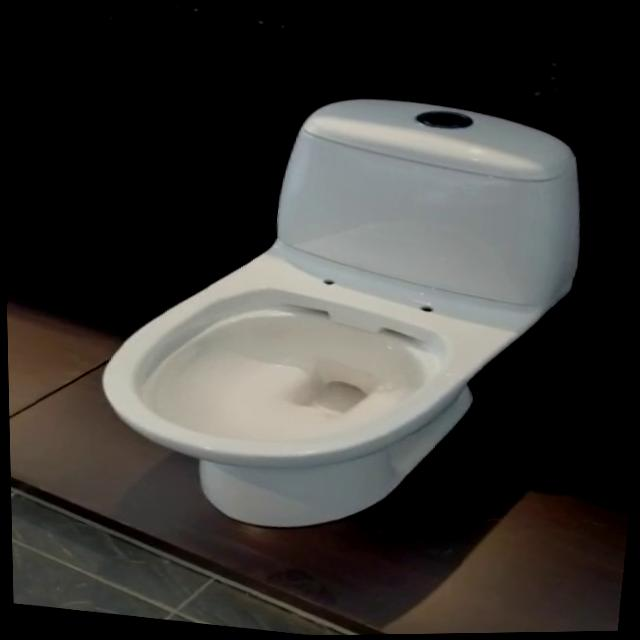toilet: (77, 64, 599, 564)
